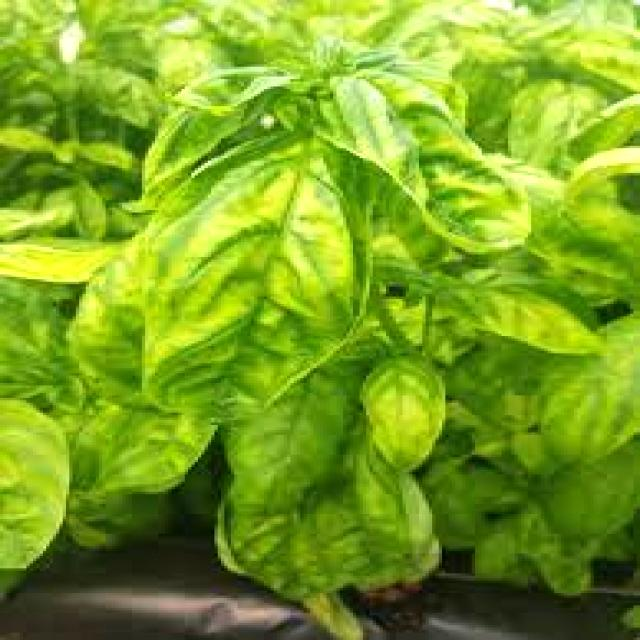yellowish leaf: (132, 55, 630, 462), (11, 154, 130, 314), (0, 354, 73, 584)
